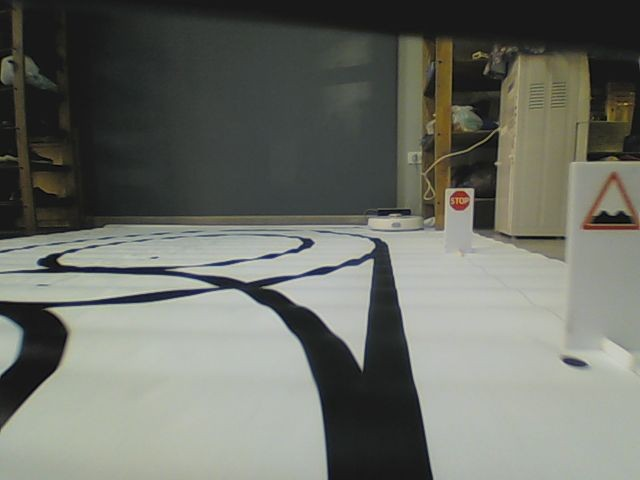Stop: (447, 189, 471, 210)
